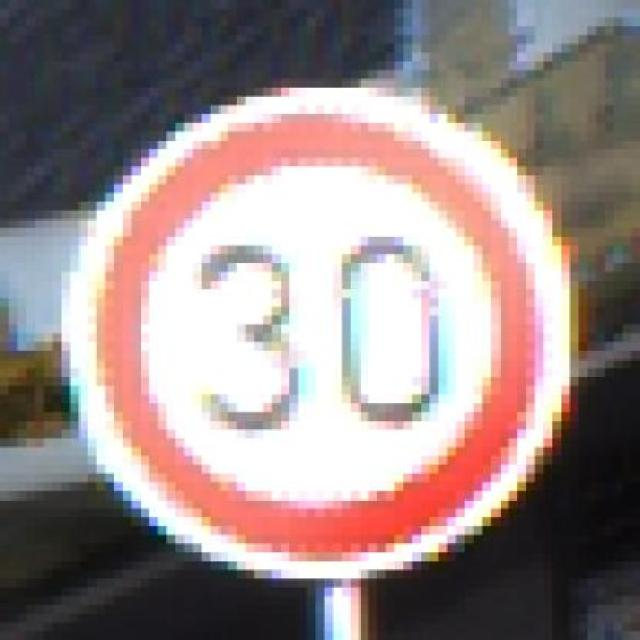Speed Limit 30 KMPh: (78, 70, 588, 579)
